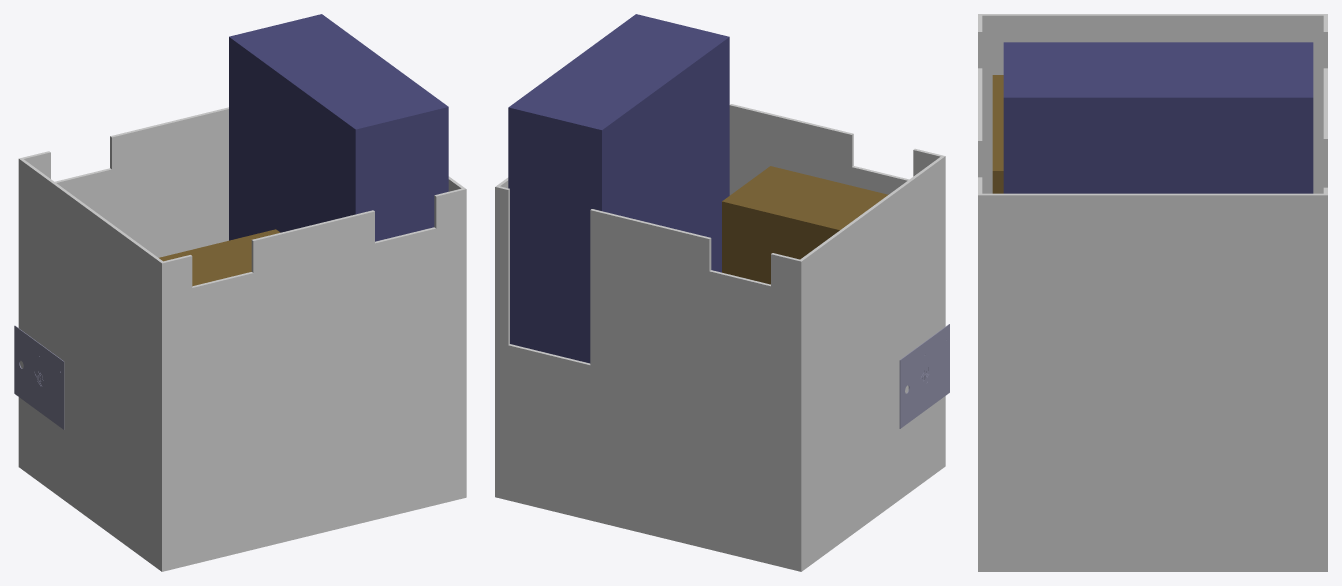
Rendered from assembly-exploded.glb.
3 renders of one model, left to right at view 1: azimuth 30°, elevation 25°; view 2: azimuth 150°, elevation 25°; view 3: azimuth 270°, elevation 25°, orthographic. The views are drawn at different scales.
Parts seen in each view (by area): view 1: container_shell, GRD-SWG-001, ARC-PLT-CG, GRD-XFM-001; view 2: container_shell, GRD-SWG-001, GRD-XFM-001, ARC-PLT-CG; view 3: container_shell, GRD-SWG-001, GRD-XFM-001.
Part boxes in pixels (left/top/right/bottom): container_shell: left=18, top=107, right=466, bottom=571; GRD-SWG-001: left=229, top=14, right=448, bottom=241; ARC-PLT-CG: left=14, top=325, right=64, bottom=429; GRD-XFM-001: left=159, top=229, right=280, bottom=286; container_shell: left=495, top=104, right=945, bottom=571; GRD-SWG-001: left=508, top=14, right=729, bottom=363; GRD-XFM-001: left=722, top=166, right=888, bottom=284; ARC-PLT-CG: left=899, top=324, right=949, bottom=428; container_shell: left=978, top=14, right=1327, bottom=571; GRD-SWG-001: left=1003, top=42, right=1313, bottom=193; GRD-XFM-001: left=992, top=75, right=1003, bottom=193.
Bounding box in the file's own units: 3494 × 3613 × 2438.
